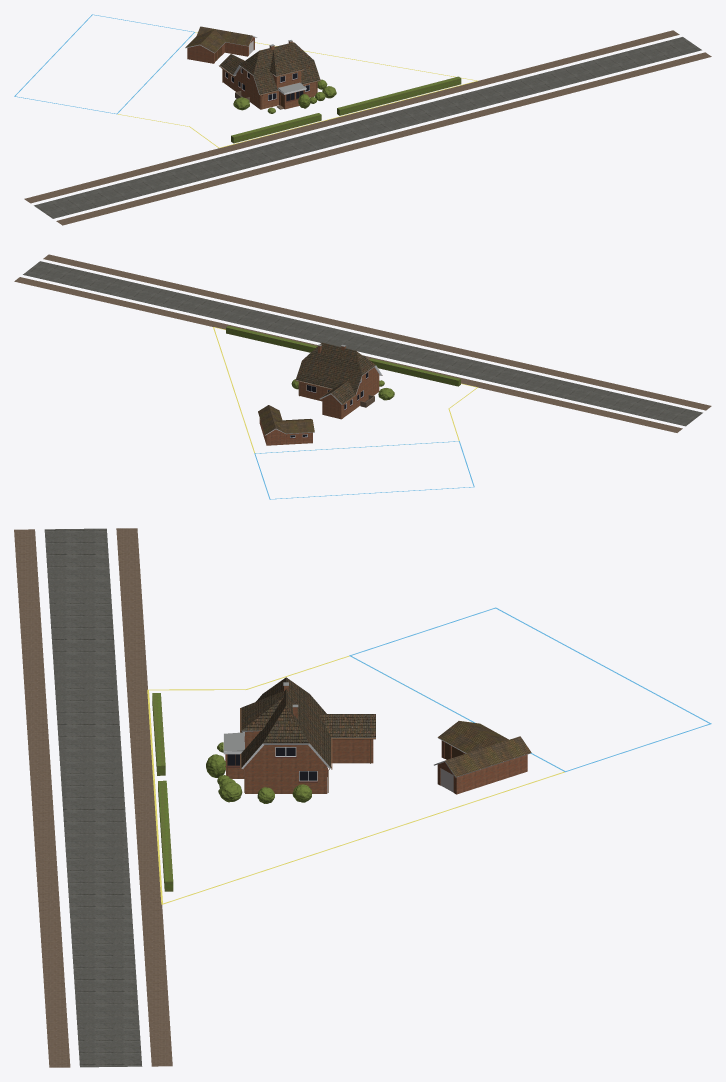
Rendered from bestand_nr12_v2_mobile.glb.
3 views of the same model, one above another, from view 1: azimuth 30°, elevation 25°; view 2: azimuth 150°, elevation 25°; view 3: azimuth 270°, elevation 25° (orthographic). The views are drawn at different scales.
Visible parts, largest first — view 1: Strasse, Stufe, Dach_Haupt, Hecke, Waende_Haupt, NG_Dach_T, NG_Riegel_Waende; view 2: Strasse, Stufe, Dach_Haupt, Hecke, Waende_Haupt, NG_Dach_T, NG_Riegel_Waende; view 3: Strasse, Stufe, Dach_Haupt, Waende_Haupt, Hecke, NG_Dach_T, NG_Riegel_Waende.
Boxes of the visible parts, x1,y1,x2,y2 form: Strasse: (34,37,701,218); Stufe: (24,30,711,225); Dach_Haupt: (14,14,478,148); Hecke: (231,76,461,143); Waende_Haupt: (223,41,317,109); NG_Dach_T: (185,26,252,52); NG_Riegel_Waende: (187,37,254,63); Strasse: (23,261,702,426); Stufe: (14,254,711,432); Dach_Haupt: (213,327,477,499); Hecke: (226,325,460,400); Waende_Haupt: (298,346,379,419); NG_Dach_T: (258,405,314,434); NG_Riegel_Waende: (259,418,312,445); Strasse: (44,528,142,1067); Stufe: (14,528,172,1067); Dach_Haupt: (147,607,711,904); Waende_Haupt: (226,686,373,793); Hecke: (152,693,312,891); NG_Dach_T: (438,721,531,776); NG_Riegel_Waende: (437,740,527,794).
Size of what is drawn, in the model's own units: 133 by 9.68 by 72.89.
Materials: 9 (9 with a texture image).
